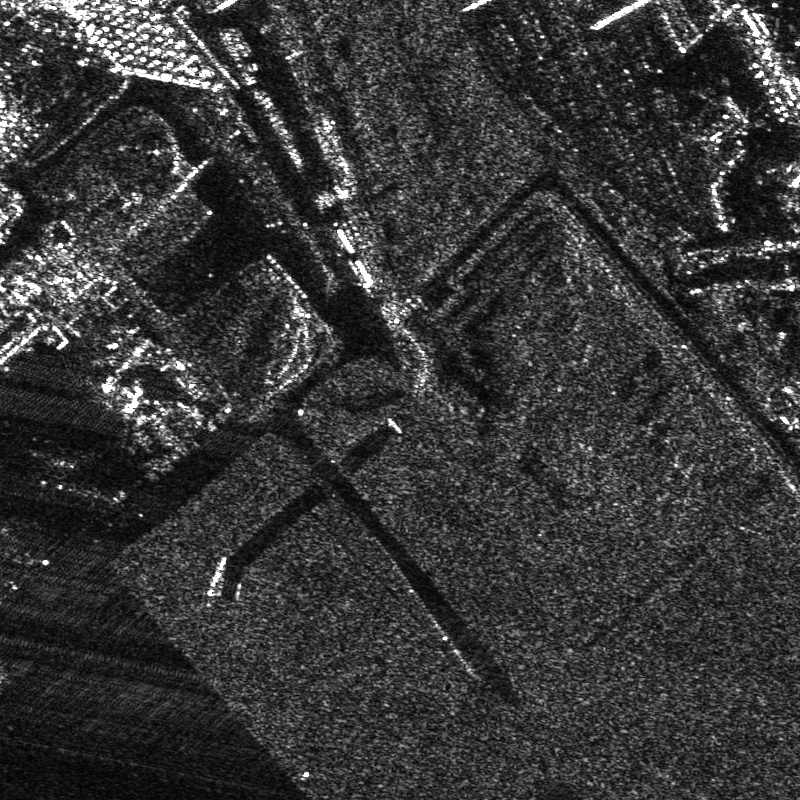Boeing737: (22, 439, 107, 501)
